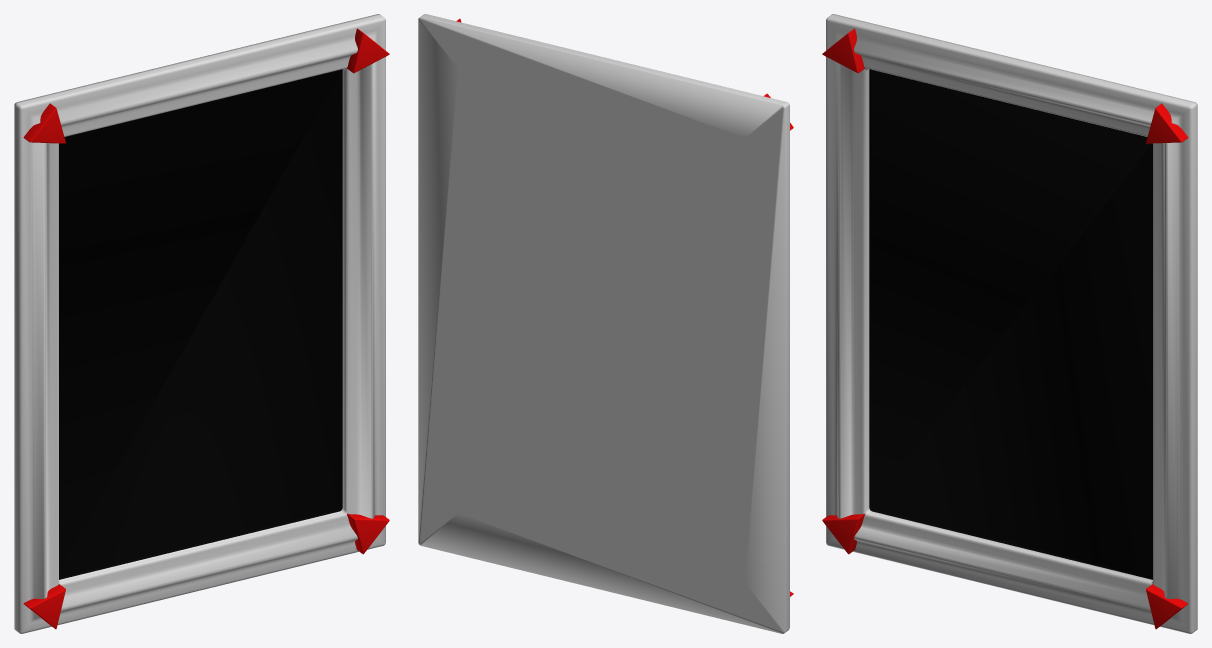
Rendered from Geo_Screen_L3.fbx.
The picture shows the model from 3 angles, left to right: view 1: azimuth 30°, elevation 25°; view 2: azimuth 150°, elevation 25°; view 3: azimuth 330°, elevation 25°; orthographic projection.
Parts seen in each view (by area): view 1: Plane.000; view 2: Plane.000; view 3: Plane.000.
Boxes of the visible parts, bbox=[...] form: Plane.000: bbox=[14, 14, 389, 633]; Plane.000: bbox=[418, 14, 793, 633]; Plane.000: bbox=[822, 14, 1197, 633].
Size of the model in its own units: 691 by 951 by 41.2.
